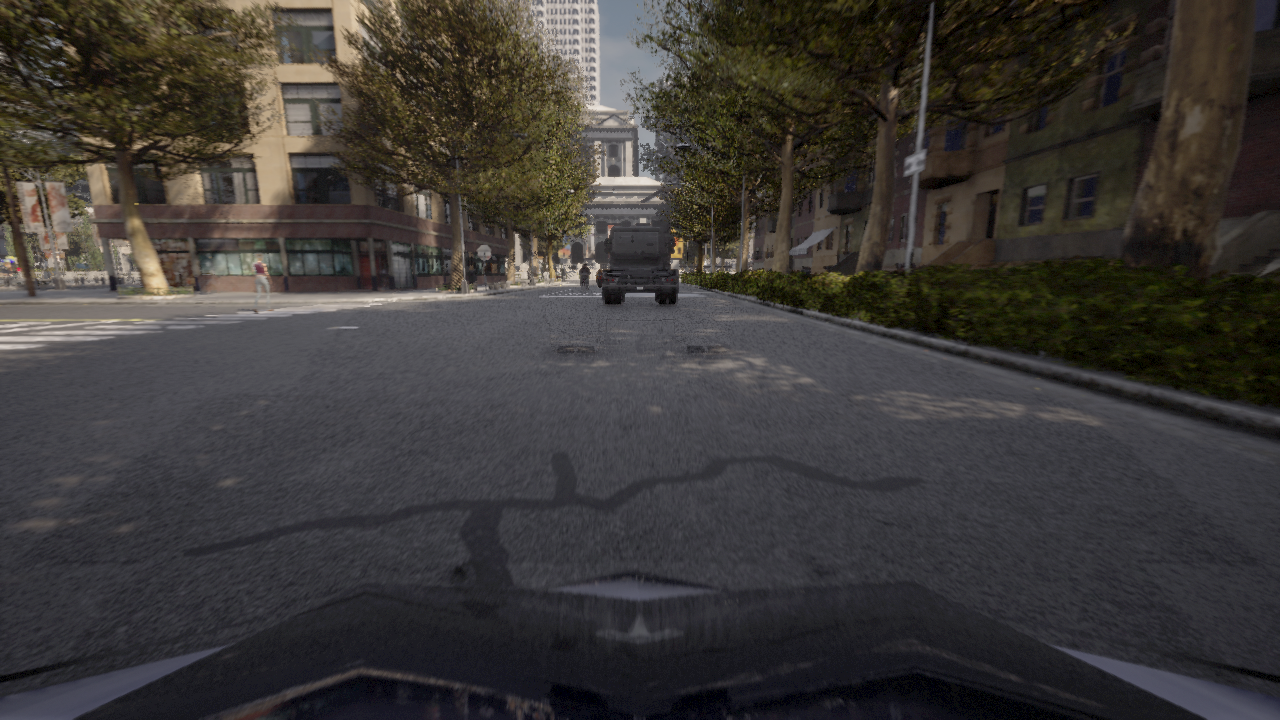cyclist: (0, 569, 1279, 719), (603, 223, 677, 305), (596, 274, 601, 286), (582, 281, 585, 289), (751, 258, 752, 270)
pedestrian: (252, 253, 274, 312)
